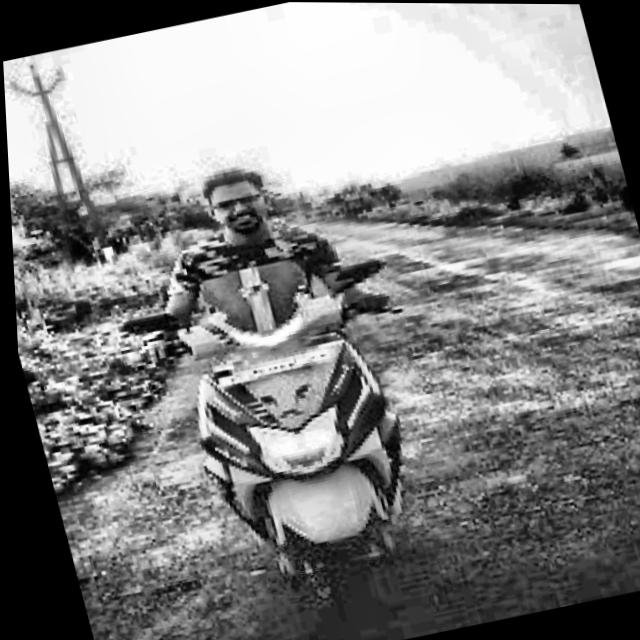motorcycle: (126, 216, 486, 640)
